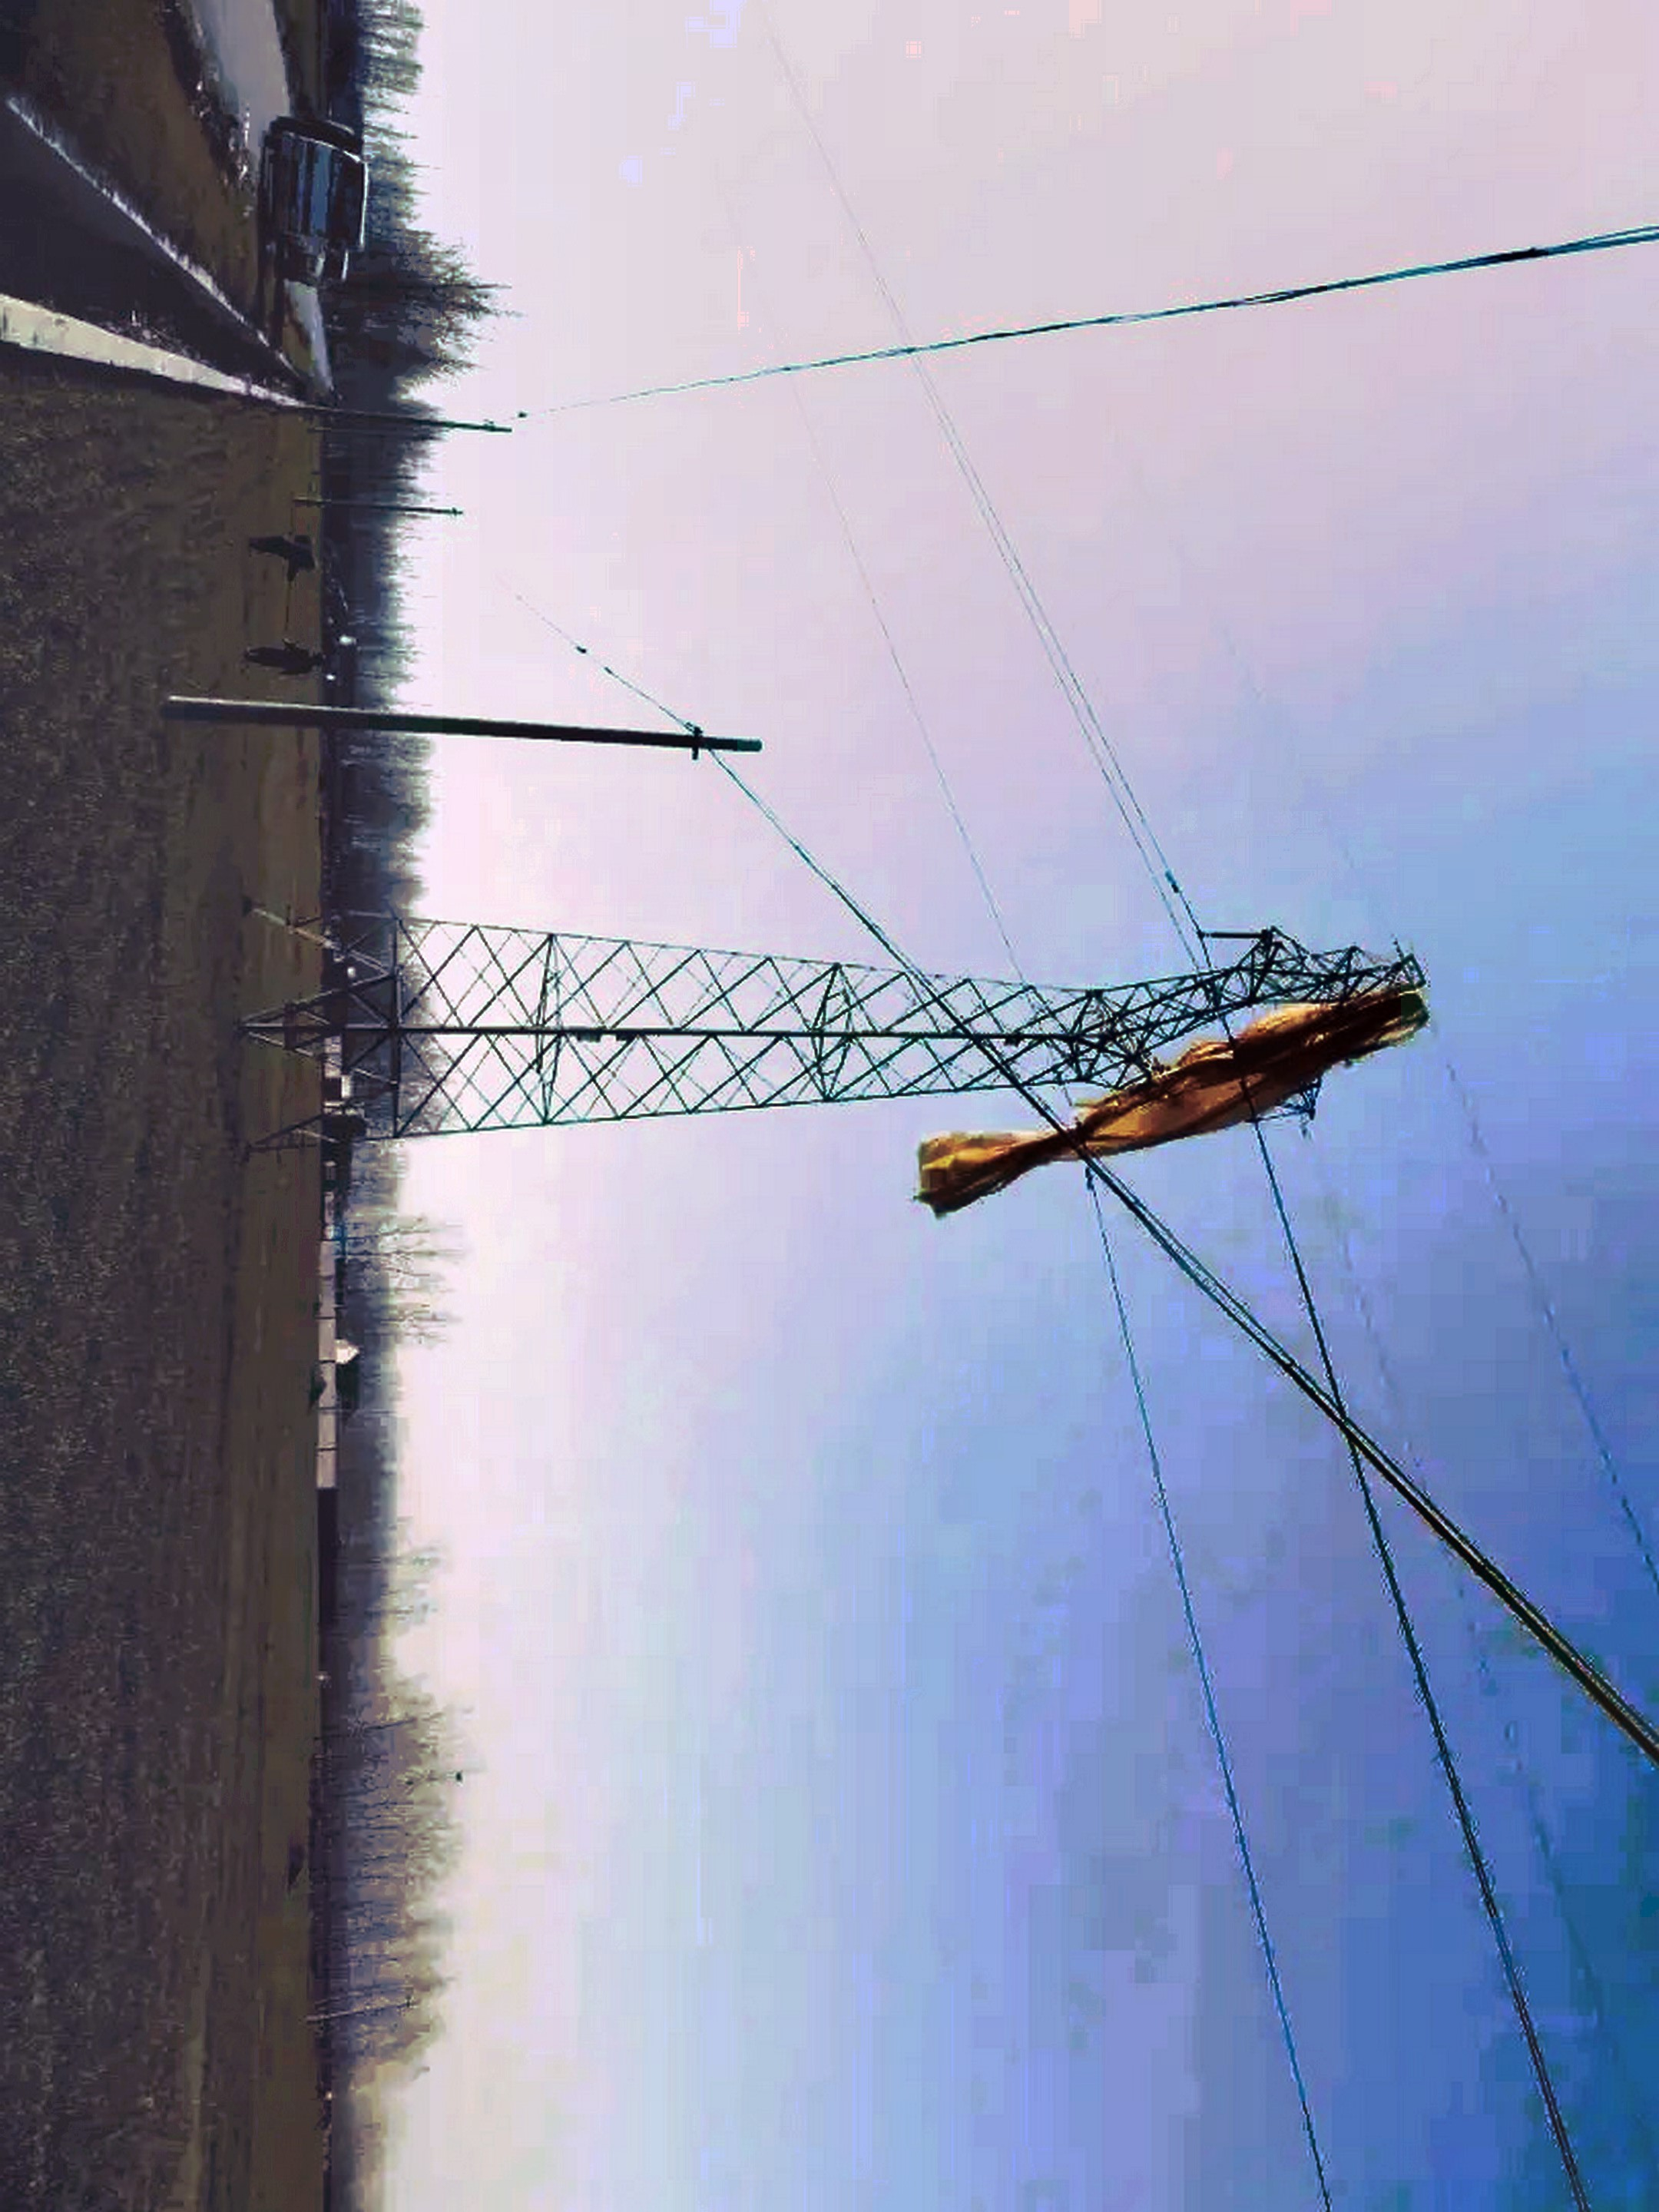wire foreign body: (868, 991, 1427, 1242)
